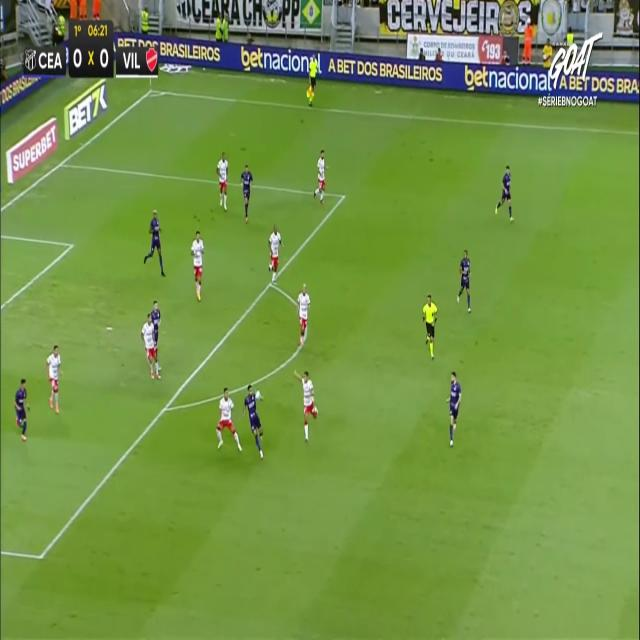ball: (256, 389, 262, 407)
player: (294, 368, 318, 442), (216, 386, 242, 452), (242, 383, 264, 459), (143, 209, 165, 276), (141, 312, 161, 380), (45, 344, 63, 413), (446, 371, 462, 446), (494, 165, 514, 222), (14, 378, 30, 440), (190, 231, 204, 301), (457, 248, 472, 313), (268, 222, 283, 284), (296, 283, 310, 346), (314, 149, 328, 204), (216, 151, 228, 211), (240, 164, 252, 223), (152, 297, 164, 351)
referee: (422, 293, 438, 359), (307, 52, 322, 108)
